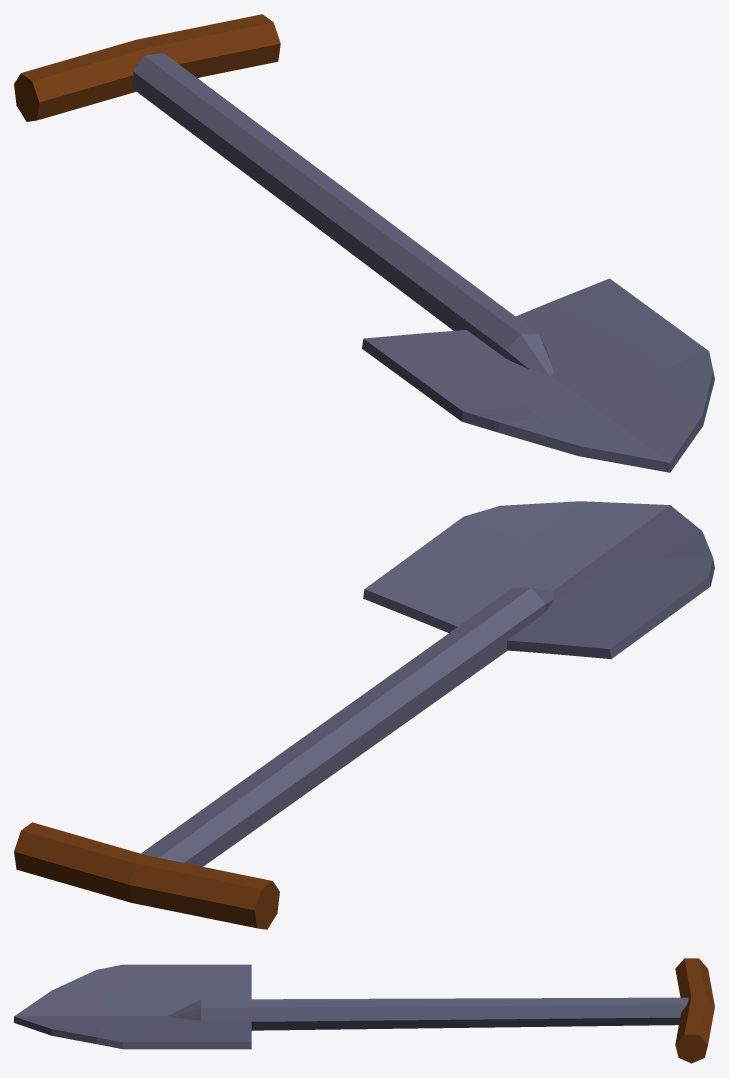
The model's file is Shovel_2.FBX.
3 renders of one model, top to bottom at view 1: azimuth 30°, elevation 25°; view 2: azimuth 150°, elevation 25°; view 3: azimuth 270°, elevation 25°, orthographic. The views are drawn at different scales.
Parts seen in each view (by area): view 1: shovel; view 2: shovel; view 3: shovel.
Part boxes in pixels (x1,y1,x2,y2): shovel: (14, 14, 714, 472); shovel: (14, 501, 714, 929); shovel: (14, 958, 714, 1063).
Size of the model in its own units: 8.59 by 1.72 by 32.35.
